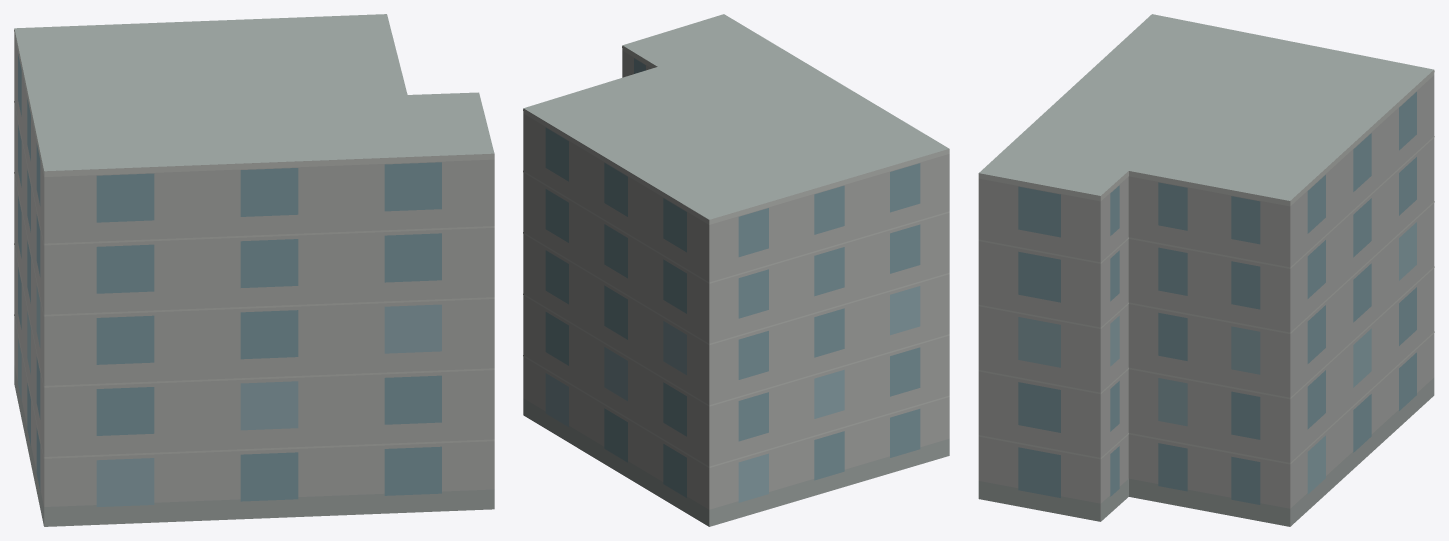
File: survey-upis-32681592.glb
3 views of the same model, side by side, from view 1: azimuth 30°, elevation 25°; view 2: azimuth 150°, elevation 25°; view 3: azimuth 270°, elevation 25° (orthographic). The views are drawn at different scales.
Visible parts, largest first — view 1: survey-upis-32681592.tmp; view 2: survey-upis-32681592.tmp; view 3: survey-upis-32681592.tmp.
Boxes of the visible parts, <box> form: survey-upis-32681592.tmp: <box>14,14,494,526</box>; survey-upis-32681592.tmp: <box>523,14,949,526</box>; survey-upis-32681592.tmp: <box>978,14,1434,526</box>.
Size of the model in its own units: 18.05 by 14.65 by 18.58.
